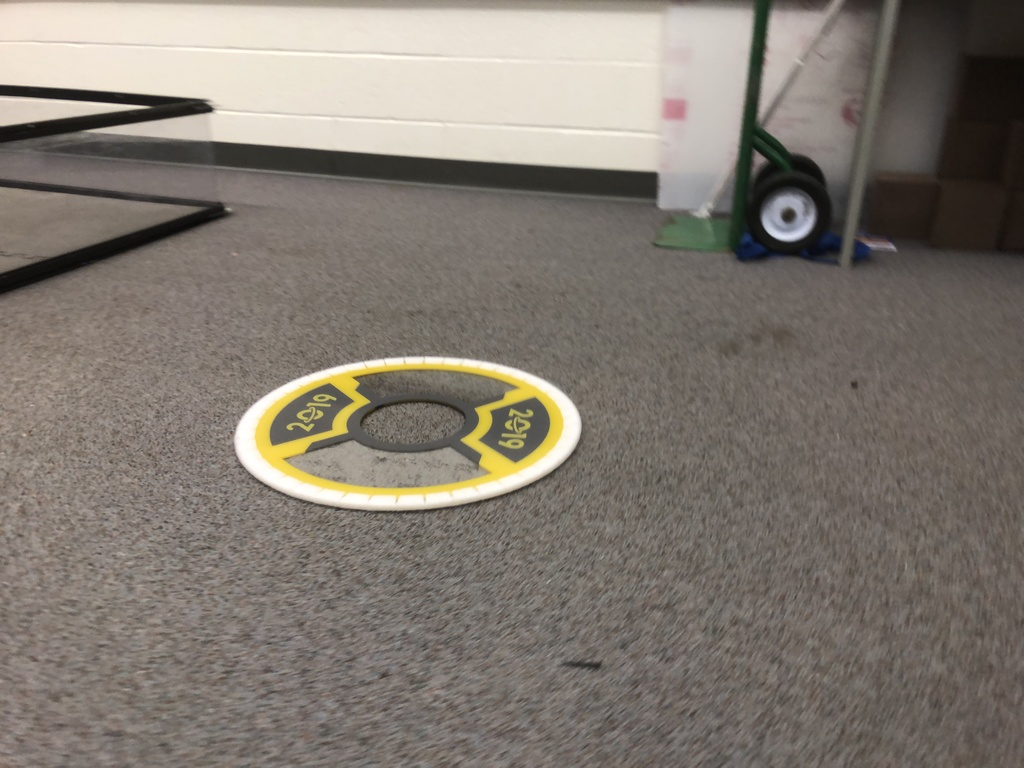hatch_panel: (228, 340, 587, 515)
